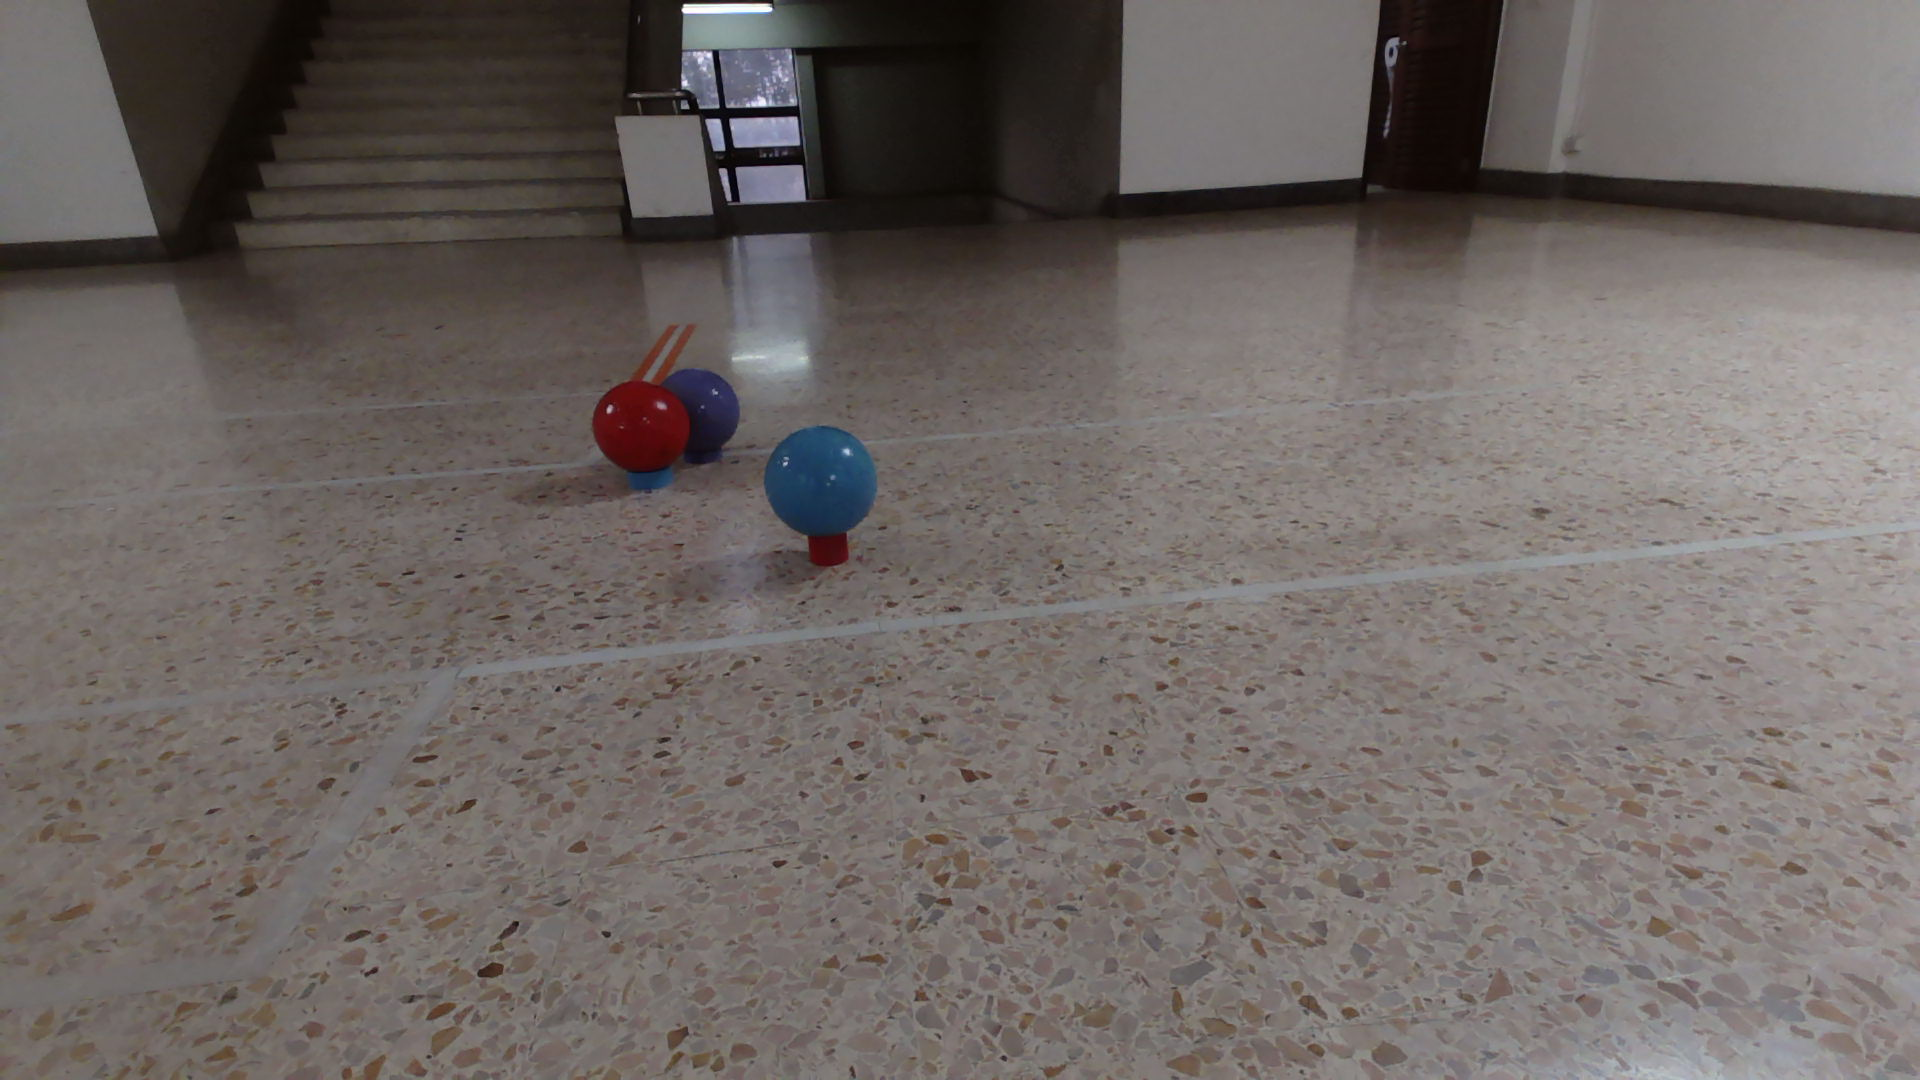Blue ball: (764, 425, 880, 537)
Purple ball: (662, 368, 740, 454)
Red ball: (589, 381, 691, 473)
